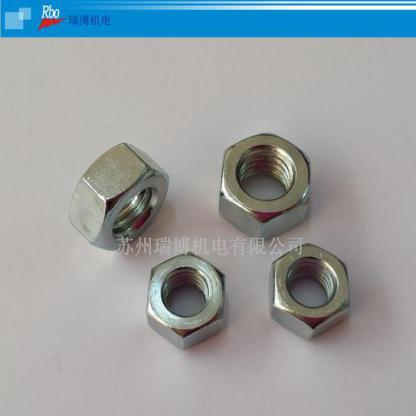FOD: (67, 139, 172, 255), (215, 129, 314, 244), (267, 241, 354, 343), (145, 250, 228, 352)
